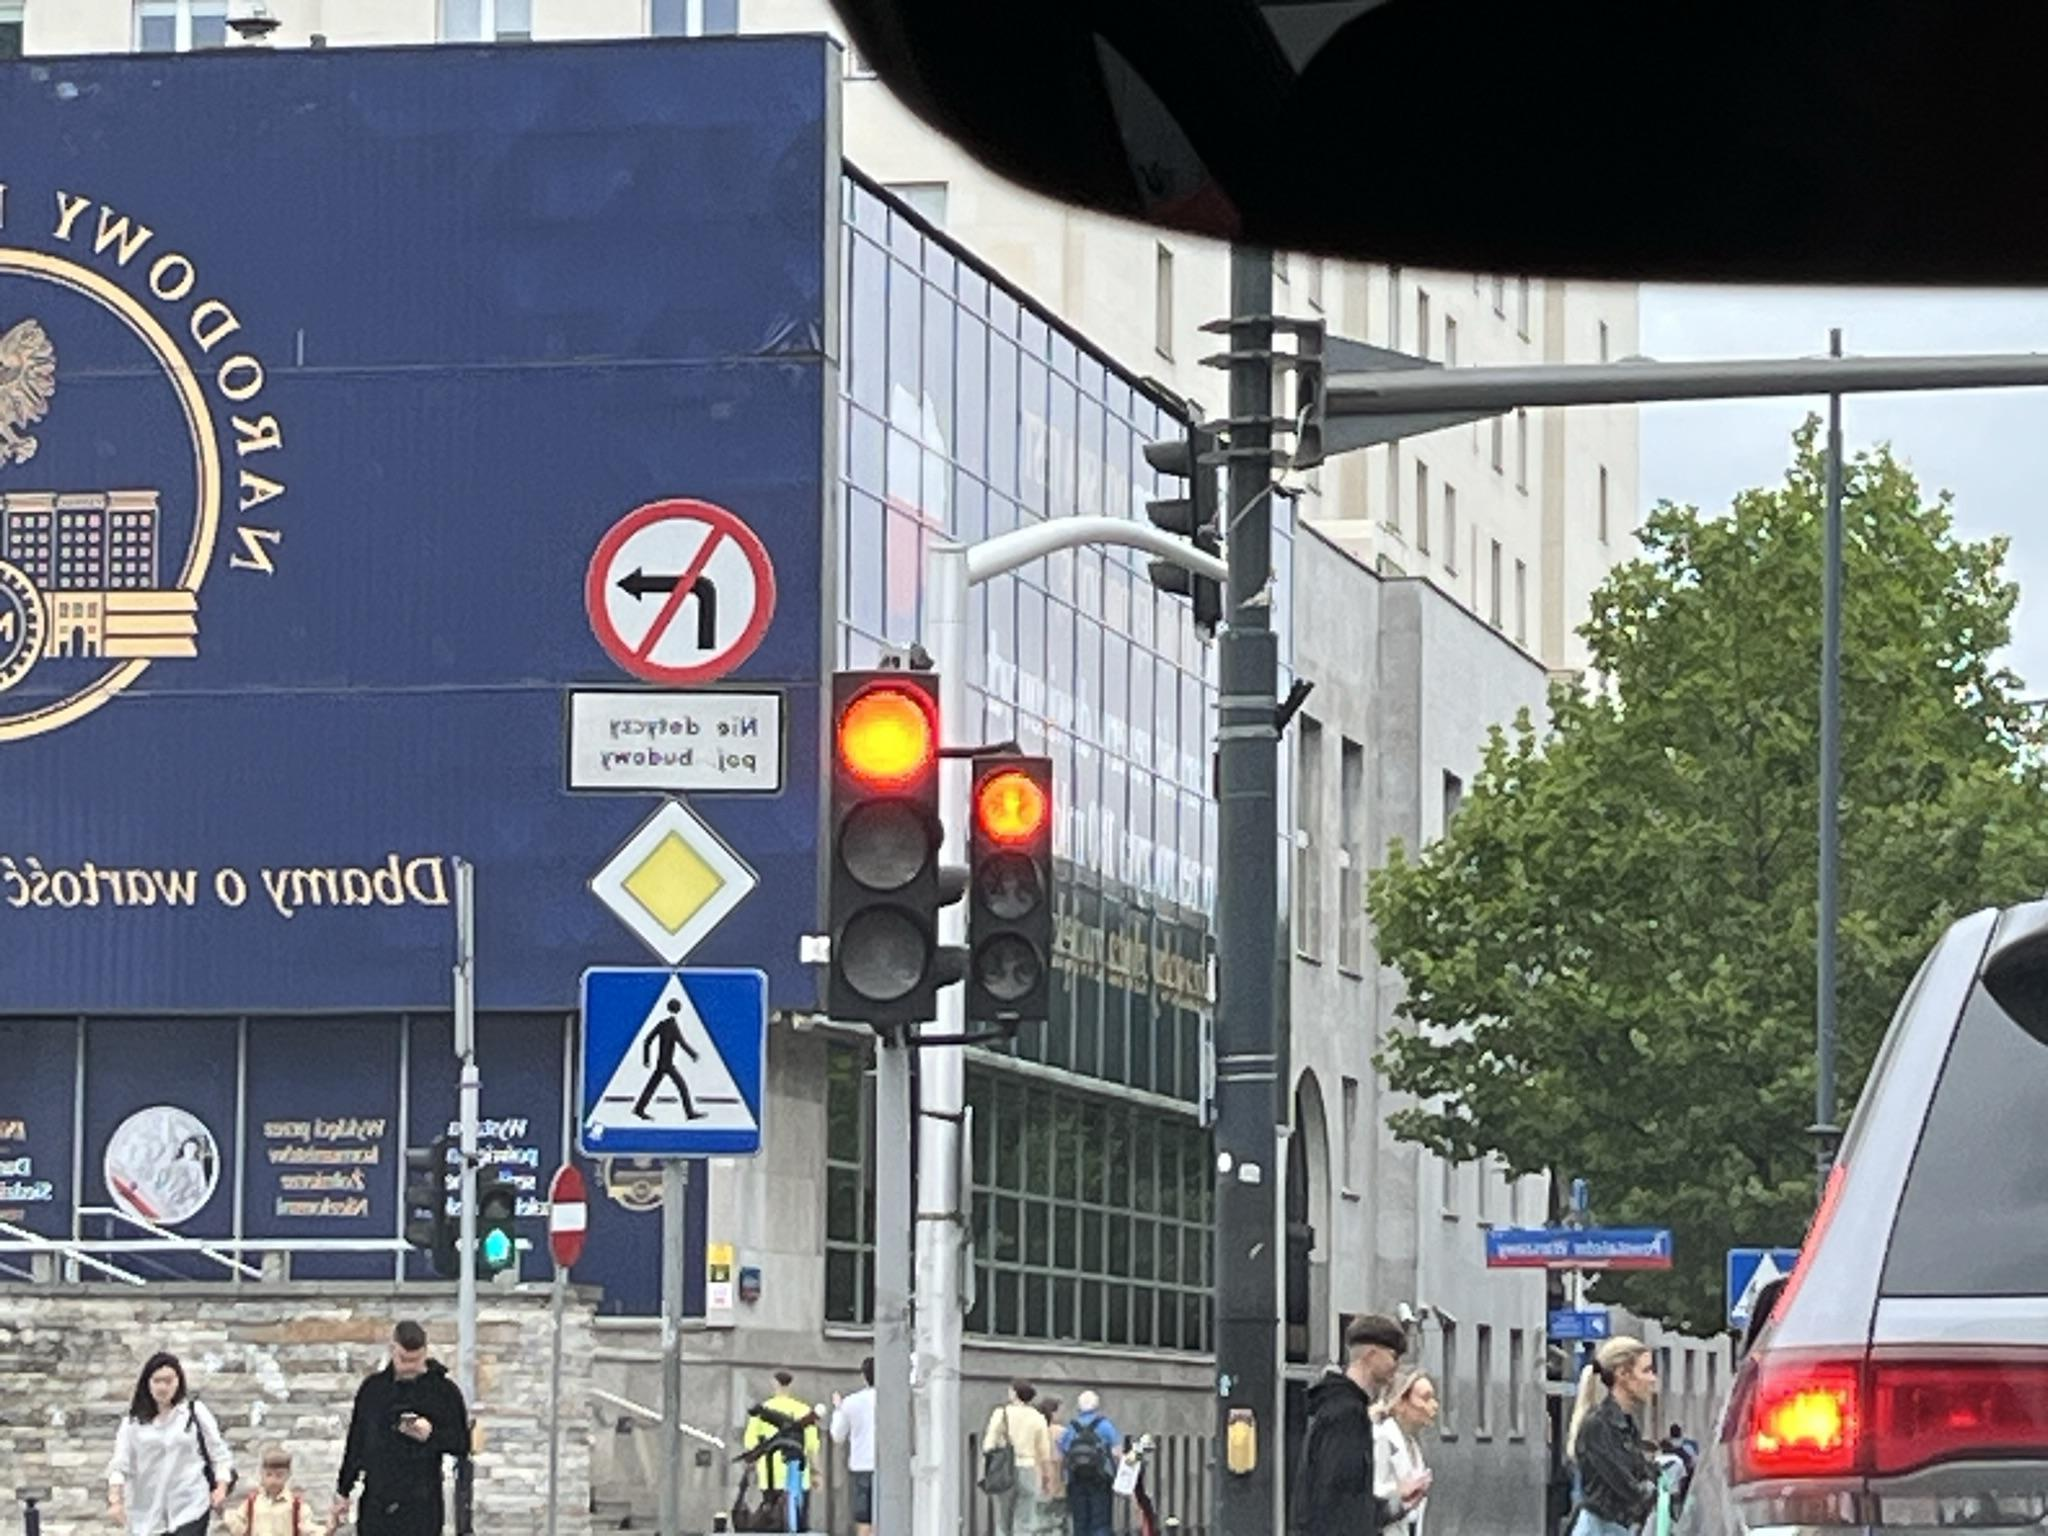information: (577, 966, 768, 1158), (584, 799, 764, 966), (1724, 1249, 1801, 1334)
other: (566, 684, 784, 795)
prohibitory: (582, 495, 776, 686), (547, 1167, 589, 1270)
